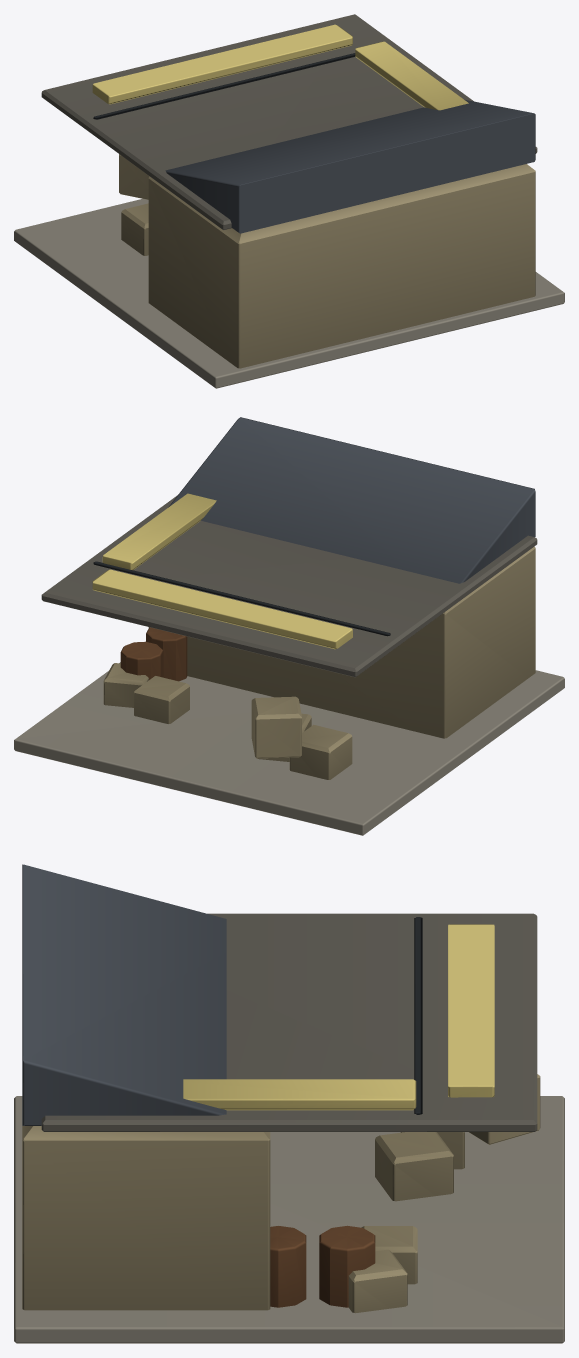
The model's file is supply_depot.glb.
3 views of the same model, one above another, from view 1: azimuth 30°, elevation 25°; view 2: azimuth 150°, elevation 25°; view 3: azimuth 270°, elevation 25° (orthographic). The views are drawn at different scales.
Visible parts, largest first — view 1: Body; view 2: Body; view 3: Body.
Part boxes in pixels (bbox=[...]): Body: bbox=[14, 14, 564, 388]; Body: bbox=[14, 417, 564, 835]; Body: bbox=[14, 864, 564, 1343].
Size of the model in its own units: 6 by 3.2 by 6.
